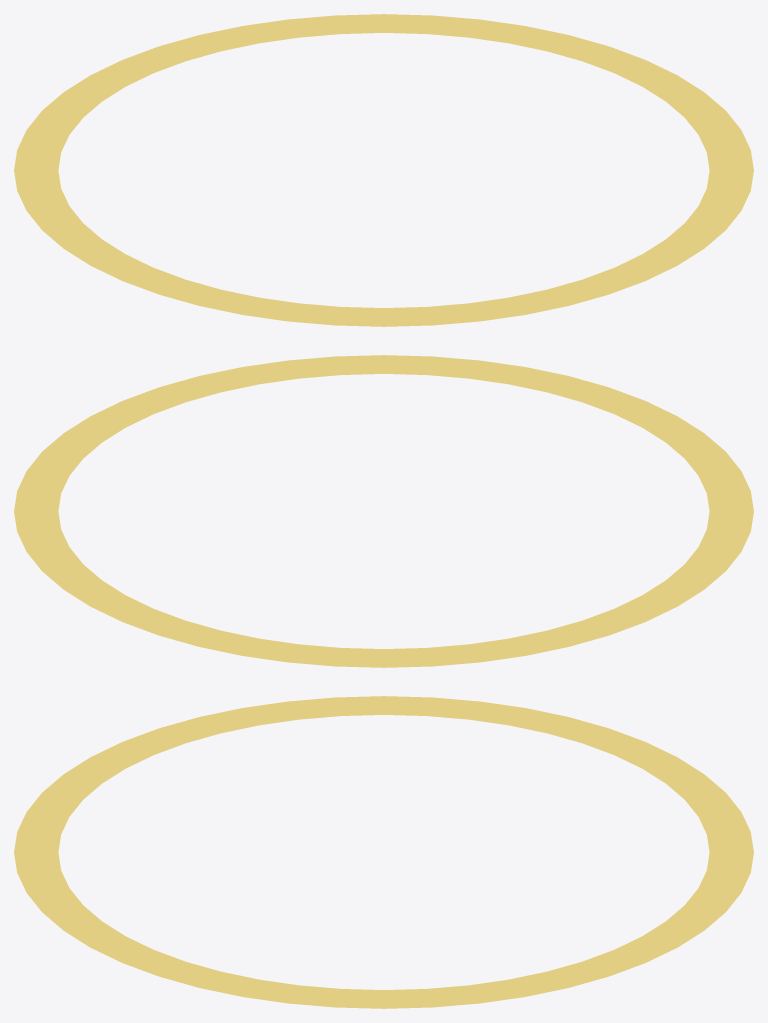
The model's file is holy_nova.glb.
3 renders of one model, top to bottom at view 1: azimuth 30°, elevation 25°; view 2: azimuth 150°, elevation 25°; view 3: azimuth 270°, elevation 25°, orthographic.
Visible parts, largest first — view 1: holy_nova; view 2: holy_nova; view 3: holy_nova.
Part boxes in pixels (x1,y1,x2,y2): holy_nova: [14, 14, 753, 326]; holy_nova: [14, 355, 753, 667]; holy_nova: [14, 696, 753, 1008].
Size of the model in its own units: 2 by 0 by 2.
Materials: 1 (1 with a texture image).
